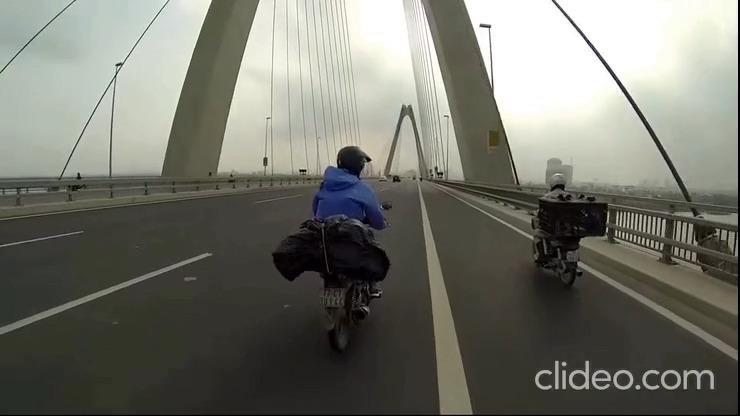helmet: (336, 145, 372, 179), (549, 172, 567, 192)
